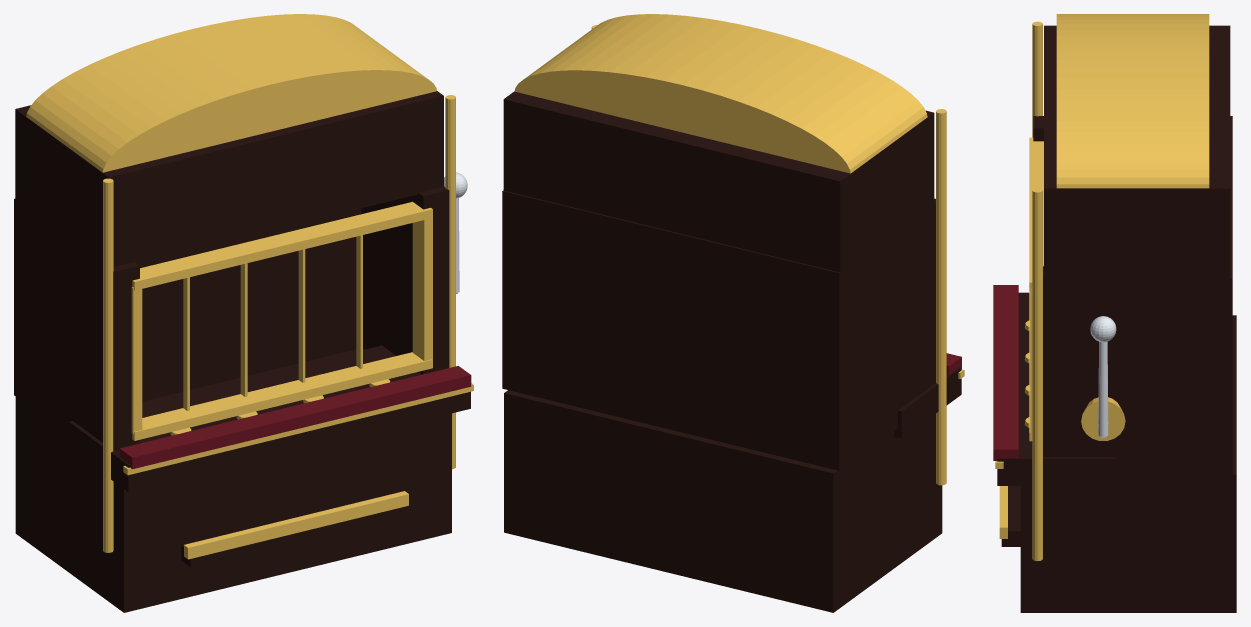
File: slot_machine.glb
3 views of the same model, side by side, from view 1: azimuth 30°, elevation 25°; view 2: azimuth 150°, elevation 25°; view 3: azimuth 270°, elevation 25° (orthographic).
Parts seen in each view (by area): view 1: slot_cabinet, slot_gold_trim, slot_pad, slot_lever; view 2: slot_cabinet, slot_gold_trim; view 3: slot_cabinet, slot_gold_trim, slot_pad, slot_lever.
Part boxes in pixels (x1,y1,x2,y2): slot_cabinet: [14, 91, 470, 612]; slot_gold_trim: [26, 14, 473, 559]; slot_pad: [119, 366, 471, 469]; slot_lever: [444, 172, 467, 293]; slot_cabinet: [502, 91, 961, 612]; slot_gold_trim: [514, 14, 964, 485]; slot_cabinet: [997, 25, 1236, 612]; slot_gold_trim: [995, 14, 1209, 561]; slot_pad: [993, 285, 1018, 460]; slot_lever: [1090, 316, 1116, 437].
Bounding box in the file's own units: 2.15 × 2.46 × 1.15.
